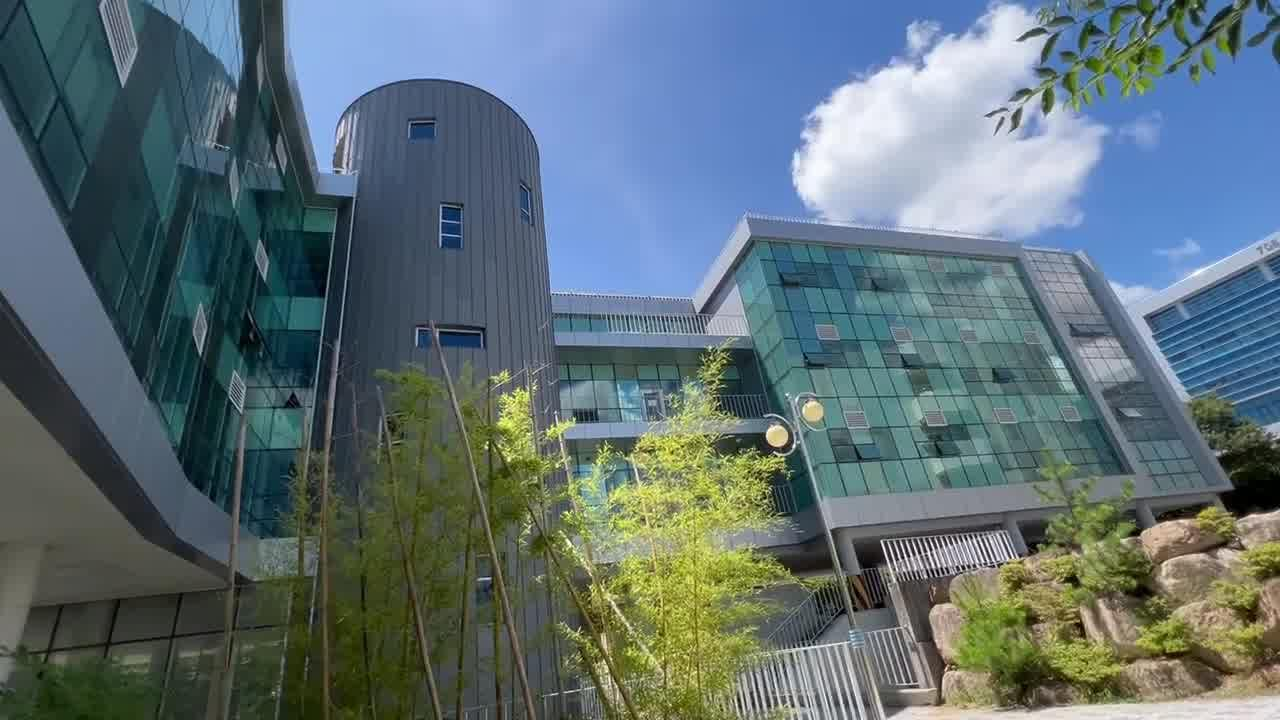building: (0, 2, 1184, 544)
